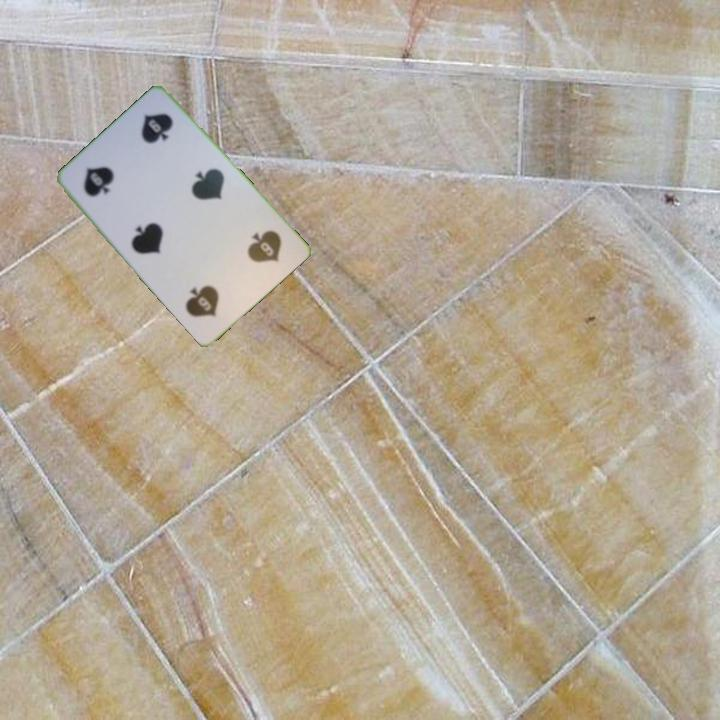s_6.png: (65, 136, 151, 221), (213, 209, 299, 294)
